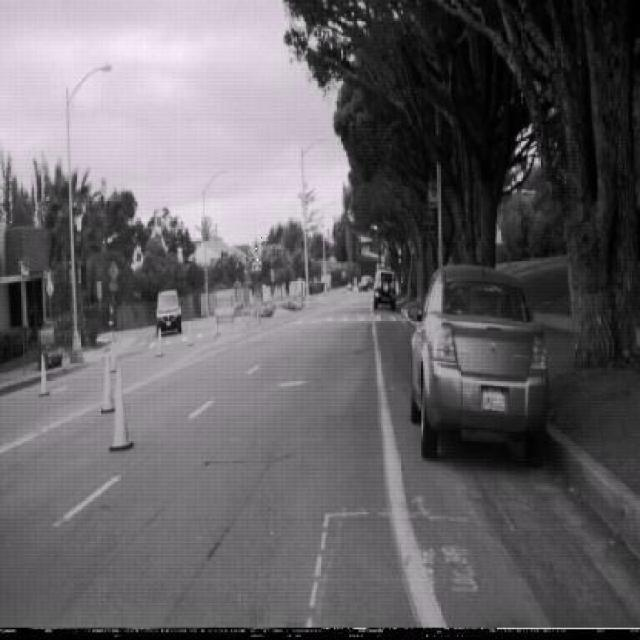pedestrianCrossing: (250, 234, 264, 263)
